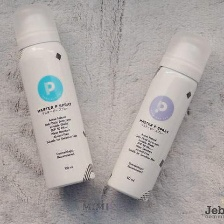aerosol_cans: (102, 26, 217, 204), (8, 1, 100, 195)
